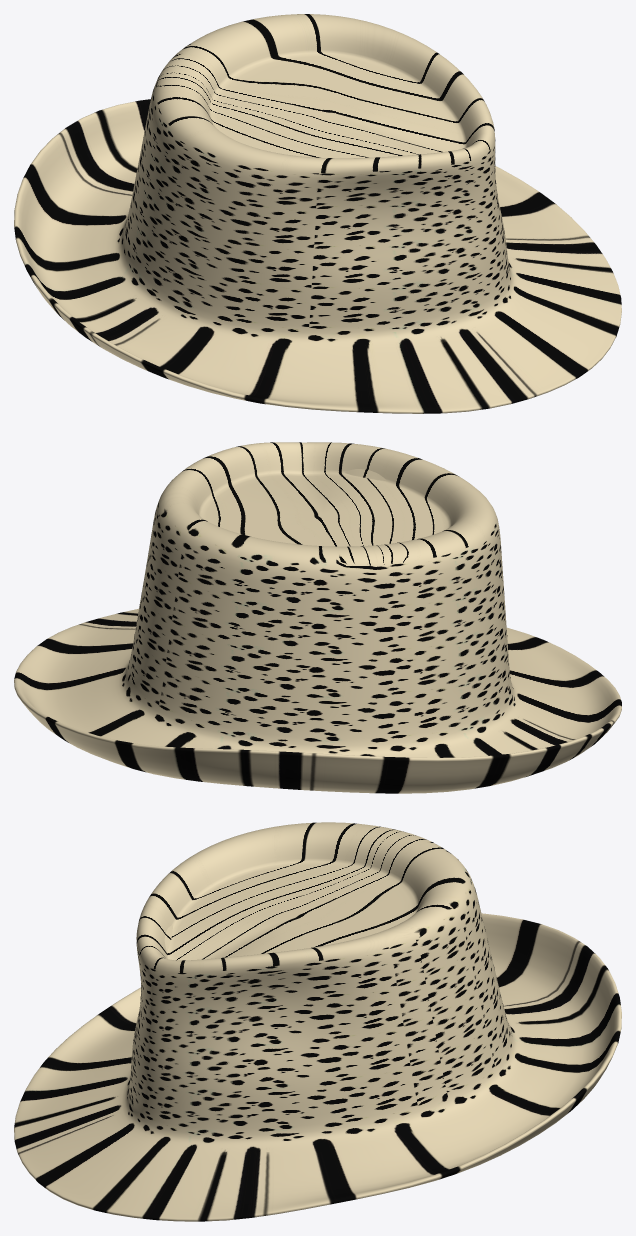
Rendered from w5-shelf-hat-set_14_040.glb.
The picture shows the model from 3 angles, top to bottom: view 1: azimuth 30°, elevation 25°; view 2: azimuth 150°, elevation 25°; view 3: azimuth 270°, elevation 25°; orthographic projection. The views are drawn at different scales.
Visible parts, largest first — view 1: Shelf_set_14_040; view 2: Shelf_set_14_040; view 3: Shelf_set_14_040.
Part boxes in pixels (x1,y1,x2,y2): Shelf_set_14_040: (14,14,621,413); Shelf_set_14_040: (14,442,621,793); Shelf_set_14_040: (14,822,621,1221).
Bounding box in the file's own units: 0.2414 × 0.1068 × 0.2435.
Materials: 1 (1 with a texture image).
